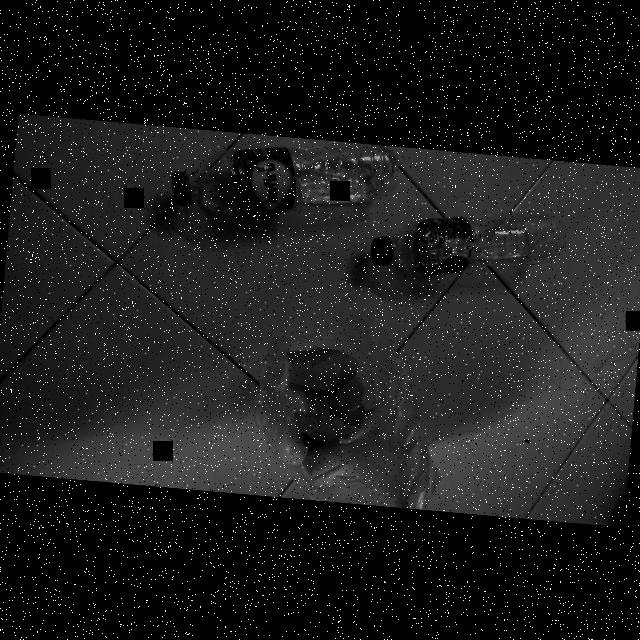plastic_bag: (244, 295, 466, 512)
plastic_bottle: (158, 126, 406, 240), (350, 191, 580, 296)
plastic_bottle_cap: (156, 160, 196, 210), (363, 233, 399, 270)
